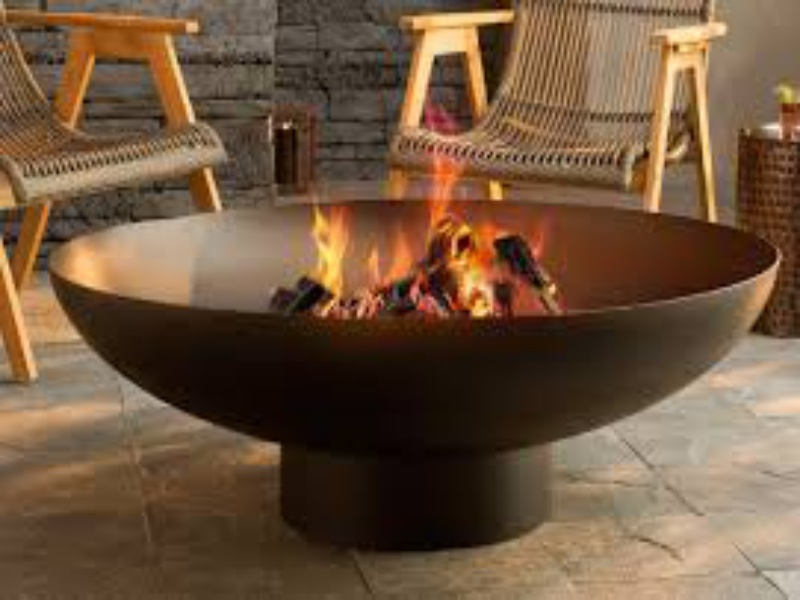fire: (292, 168, 557, 308)
